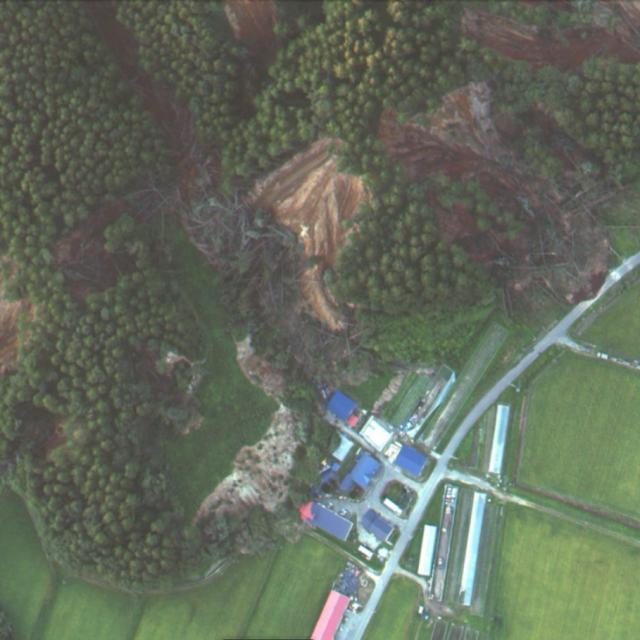landslide: (99, 20, 371, 356), (379, 81, 612, 325), (250, 138, 368, 331), (381, 84, 515, 180), (463, 2, 640, 69), (203, 402, 301, 516), (54, 189, 157, 295), (224, 0, 280, 65), (237, 336, 285, 401)
